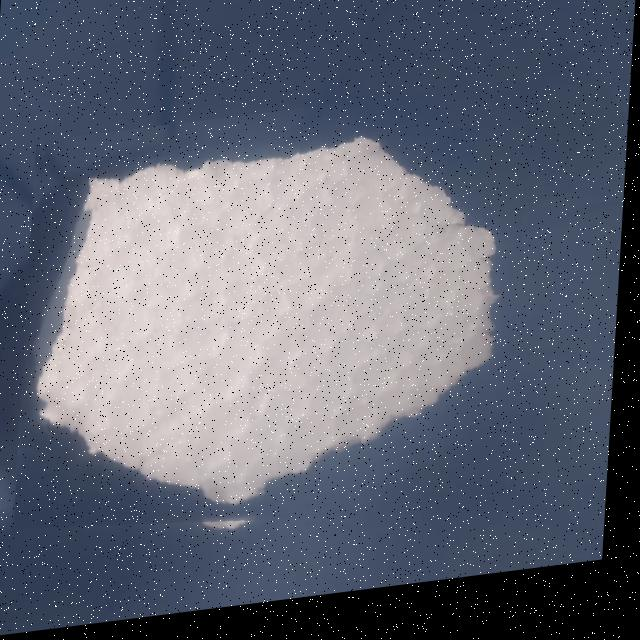thermocoal: (17, 93, 534, 575)
